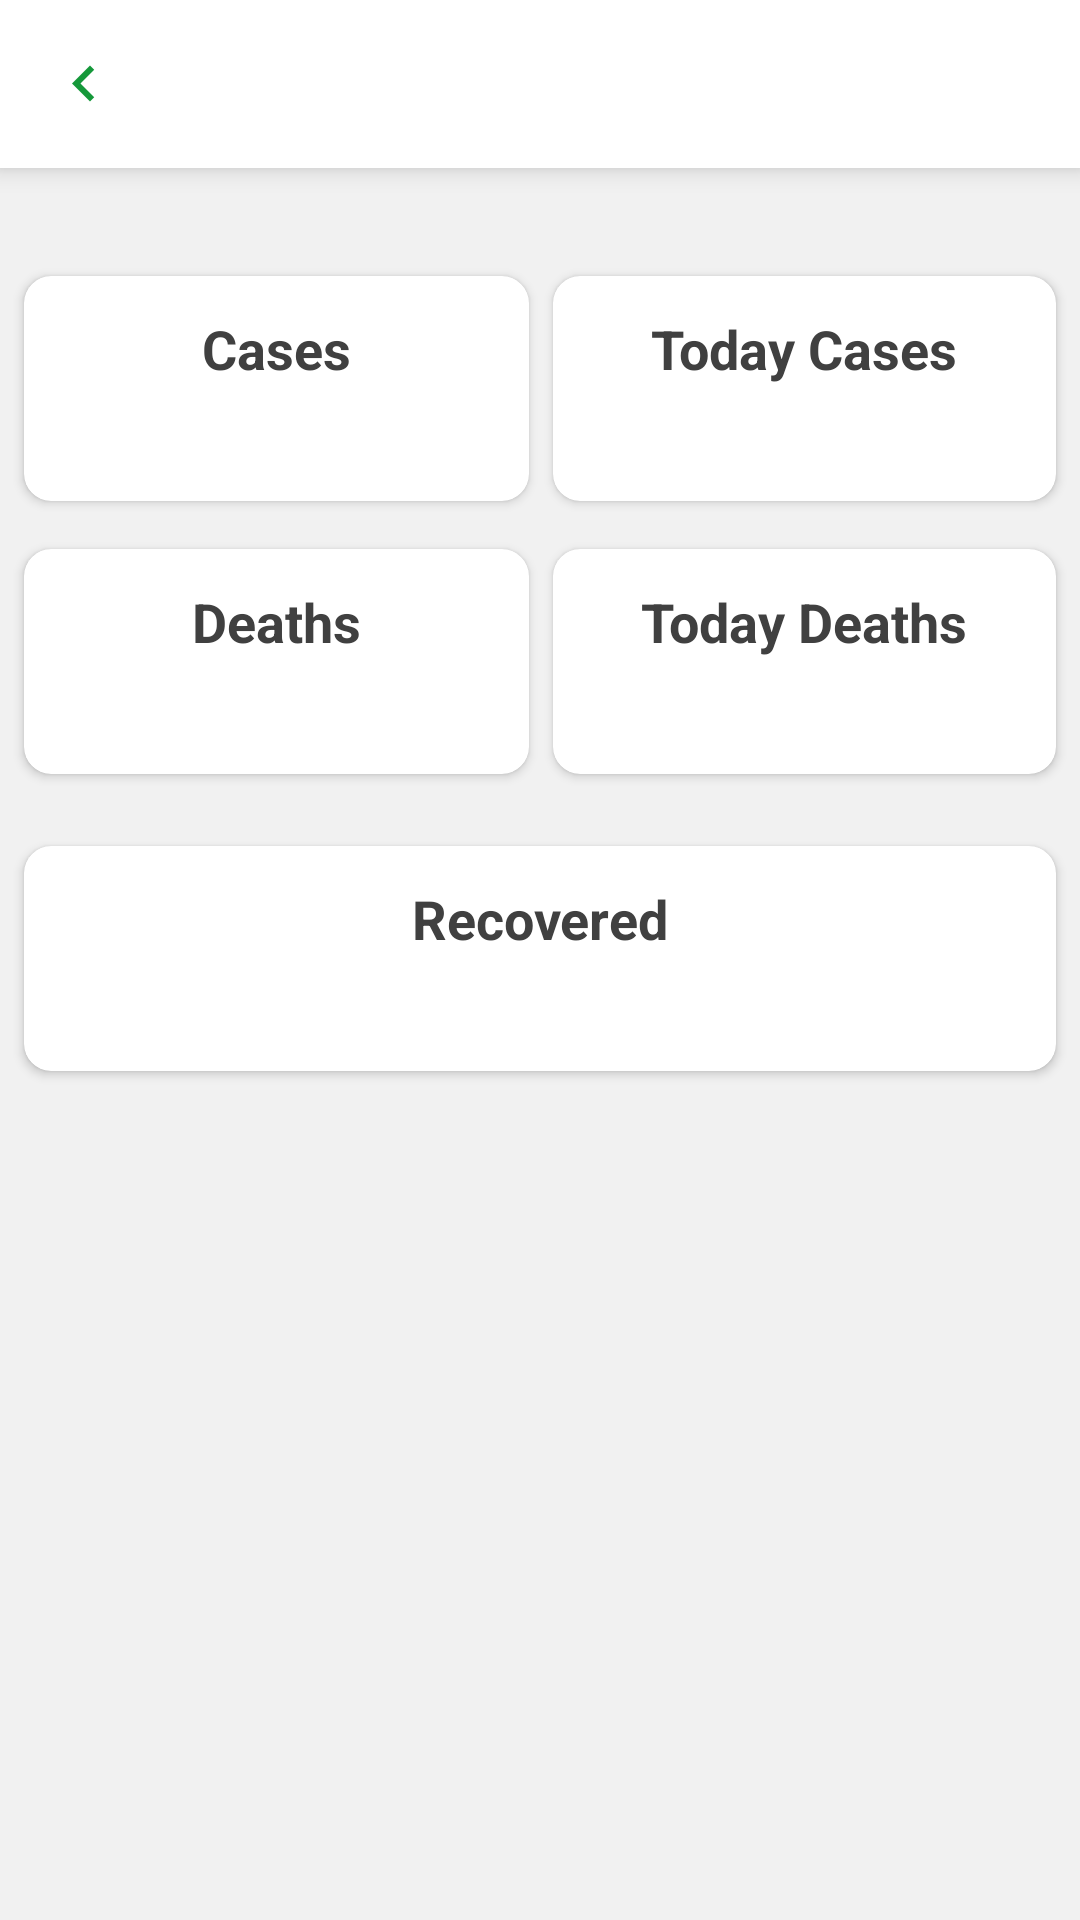

Named icons in this screenshot (1080*1920) and their bounding boxes, [x1=x1, y1=y1, x2=x2, y2=y2]:
arrow left: [x1=72, y1=65, x2=94, y2=102]
